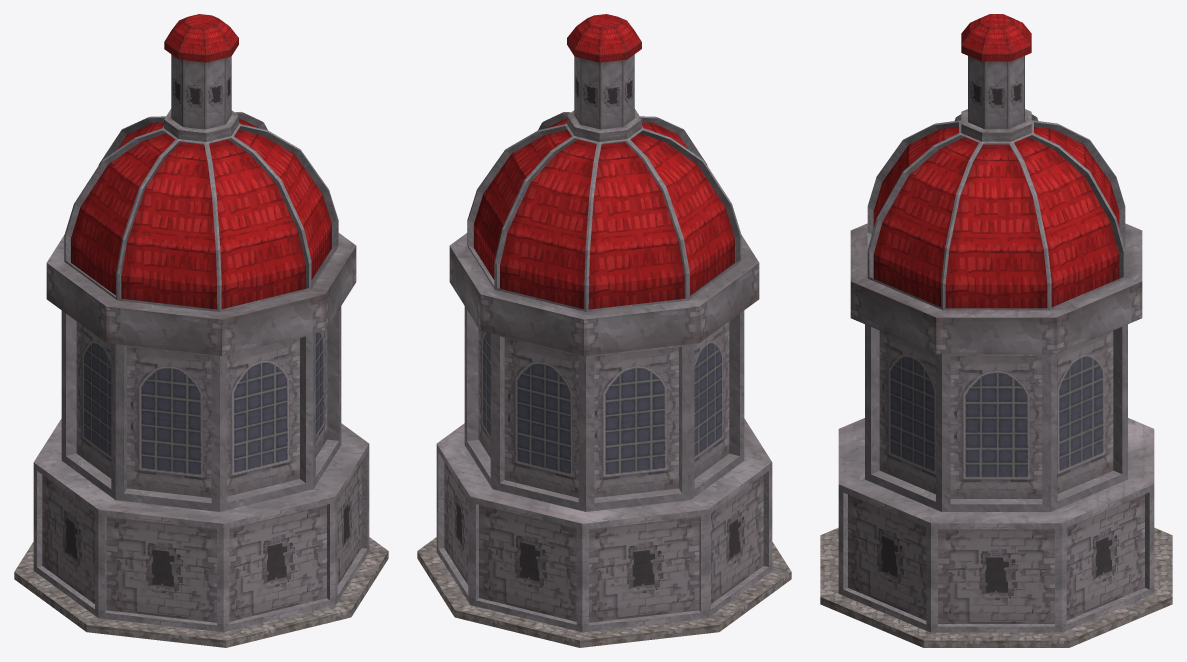
File: Stohess_Structure.fbx
3 renders of one model, left to right at view 1: azimuth 30°, elevation 25°; view 2: azimuth 150°, elevation 25°; view 3: azimuth 270°, elevation 25°, orthographic.
Parts seen in each view (by area): view 1: Circle; view 2: Circle; view 3: Circle.
Boxes of the visible parts, x1=… form: Circle: x1=14, y1=14, x2=388, y2=647; Circle: x1=417, y1=14, x2=791, y2=647; Circle: x1=820, y1=14, x2=1172, y2=647.
Size of the model in its own units: 1137 by 1969 by 1137.
